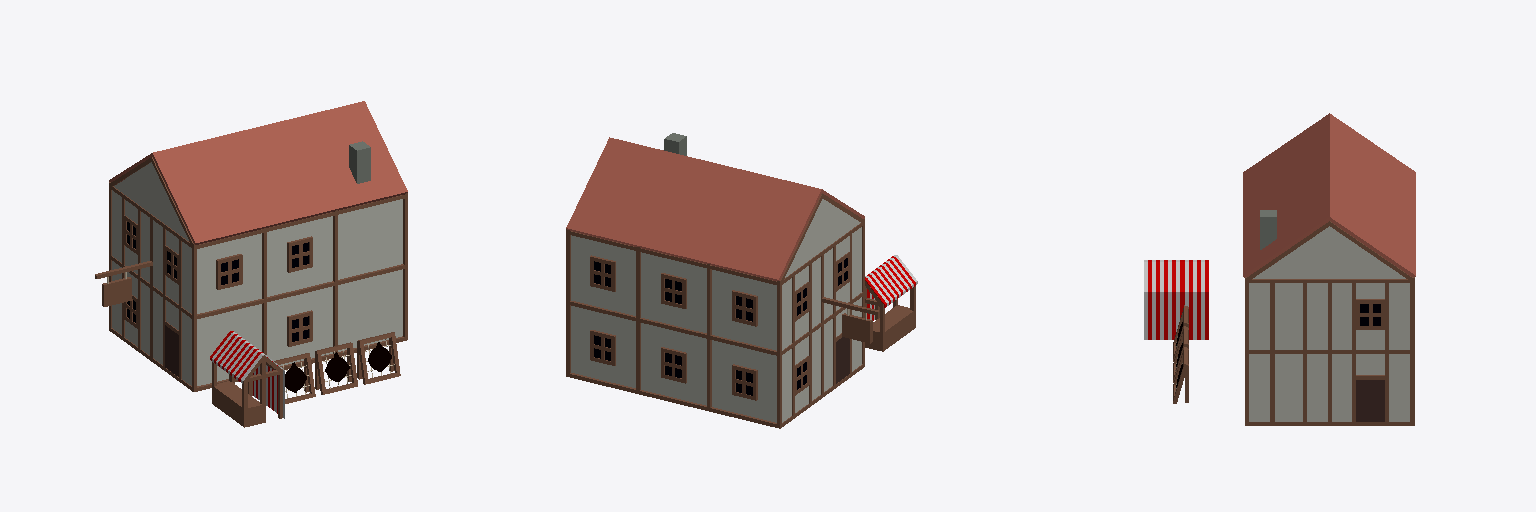
Rendered from timberframedtanner_red_white.obj.
3 views of the same model, side by side, from view 1: azimuth 30°, elevation 25°; view 2: azimuth 150°, elevation 25°; view 3: azimuth 270°, elevation 25° (orthographic).
Parts seen in each view (by area): view 1: Cube.005, Cube.007_Cube.011, Cylinder.001_Cylinder.008, Cylinder.003_Cylinder.001, Cylinder.004_Cylinder.009, Cube.011_Cube.015, Cube.018_Cube.016, Cube.056_Cube.081, Cube.001_Cube.058, Cube.013_Cube.080, Cube.006_Cube.010, Cube.026_Cube.019 (+7 smaller); view 2: Cube.005, Cube.007_Cube.011, Cube.023_Cube.026, Cube.022_Cube.025, Cube.021_Cube.024, Cube.015_Cube.020, Cube.019_Cube.022, Cube.017_Cube.021, Cube.014_Cube.018, Cube.008, Cube.020_Cube.023, Cube.073_Cube.078 (+6 smaller); view 3: Cube.005, Cube.007_Cube.011, Cube.147_Cube.153, Cube.003, Cube.033, Cube.027, Cube.047_Cube.049, Cube.016_Cube.013, Cube.031, Cube.006_Cube.010, Cube.032, Cylinder.001_Cylinder.008 (+5 smaller).
Part boxes in pixels (bbox=[...]): Cube.005: bbox=[112, 162, 402, 385]; Cube.007_Cube.011: bbox=[109, 101, 407, 244]; Cylinder.001_Cylinder.008: bbox=[357, 332, 400, 384]; Cylinder.003_Cylinder.001: bbox=[315, 342, 357, 394]; Cylinder.004_Cylinder.009: bbox=[274, 353, 315, 403]; Cube.011_Cube.015: bbox=[195, 264, 406, 319]; Cube.018_Cube.016: bbox=[195, 195, 406, 249]; Cube.056_Cube.081: bbox=[216, 254, 242, 289]; Cube.001_Cube.058: bbox=[287, 310, 312, 346]; Cube.013_Cube.080: bbox=[287, 236, 312, 272]; Cube.006_Cube.010: bbox=[349, 141, 370, 183]; Cube.026_Cube.019: bbox=[192, 243, 196, 391]; Cube.005: bbox=[571, 199, 861, 422]; Cube.007_Cube.011: bbox=[566, 137, 864, 280]; Cube.023_Cube.026: bbox=[567, 373, 779, 427]; Cube.022_Cube.025: bbox=[567, 301, 776, 355]; Cube.021_Cube.024: bbox=[567, 231, 777, 284]; Cube.015_Cube.020: bbox=[732, 290, 757, 326]; Cube.019_Cube.022: bbox=[661, 347, 686, 383]; Cube.017_Cube.021: bbox=[590, 330, 615, 365]; Cube.014_Cube.018: bbox=[661, 273, 686, 308]; Cube.008: bbox=[590, 255, 615, 291]; Cube.020_Cube.023: bbox=[732, 364, 757, 400]; Cube.073_Cube.078: bbox=[842, 313, 872, 343]; Cube.005: bbox=[1249, 226, 1409, 421]; Cube.007_Cube.011: bbox=[1243, 113, 1415, 277]; Cube.147_Cube.153: bbox=[1144, 292, 1208, 339]; Cube.003: bbox=[1356, 380, 1384, 421]; Cube.033: bbox=[1356, 299, 1384, 329]; Cube.027: bbox=[1410, 277, 1414, 425]; Cube.047_Cube.049: bbox=[1270, 279, 1274, 423]; Cube.016_Cube.013: bbox=[1248, 350, 1410, 353]; Cube.031: bbox=[1248, 422, 1410, 425]; Cube.006_Cube.010: bbox=[1260, 210, 1276, 249]; Cube.032: bbox=[1248, 279, 1410, 282]; Cylinder.001_Cylinder.008: bbox=[1173, 347, 1188, 403].
Size of the model in its own units: 15.3 by 11.25 by 13.34.